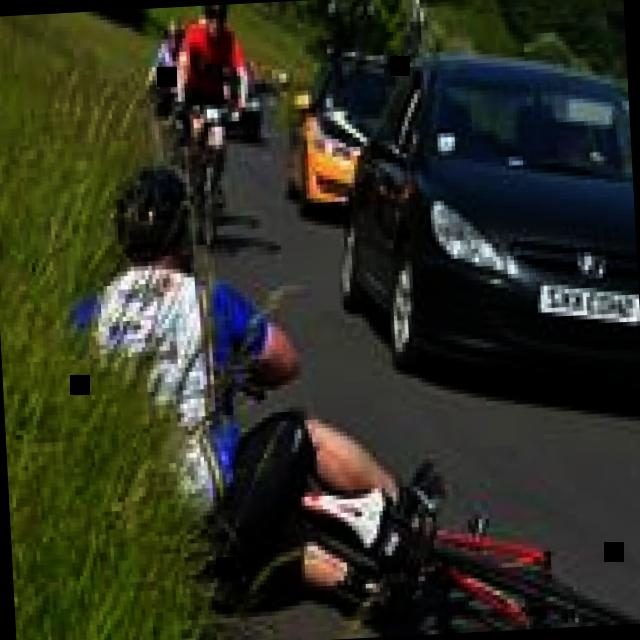Fall-Detected: (51, 135, 440, 612)
